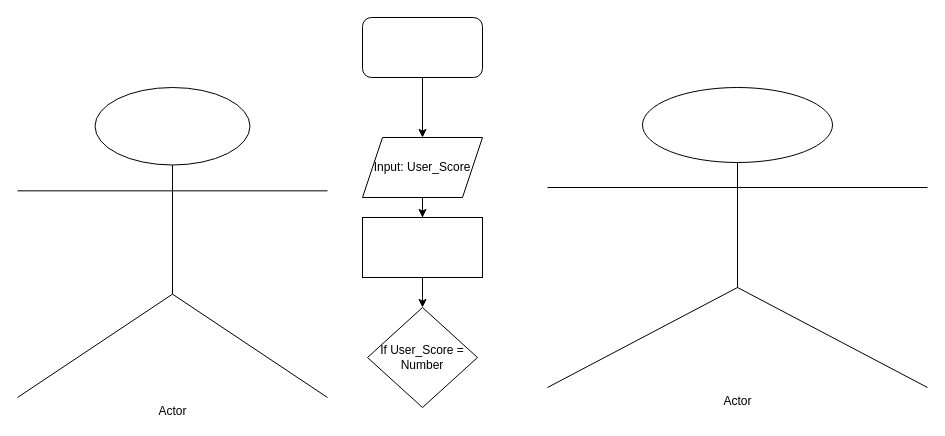
The diagram is 945 pixels wide and 436 high, and some of its shapes have lost their labels. The centre of each missing label's shape, as x and y in pixels:
Generate random number between 1-100, store as variable "Number": point (422, 247)
Start: point (422, 47)
